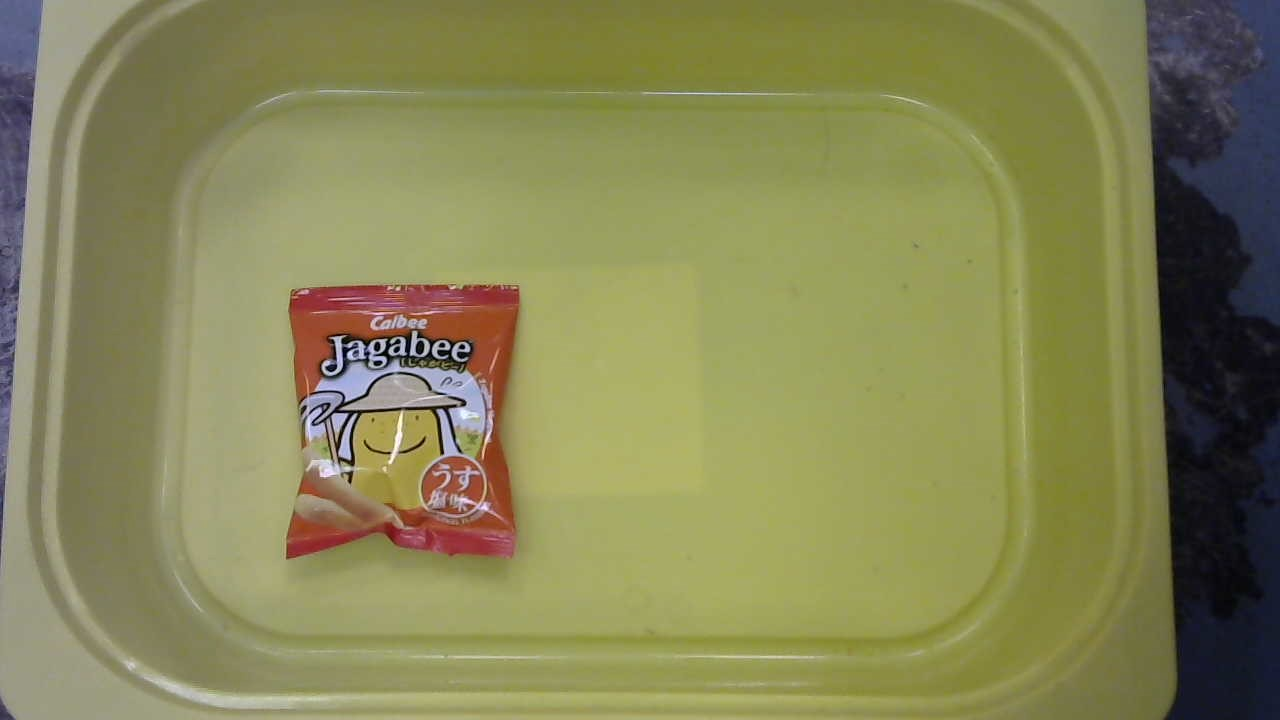JagabeeFarmer: (280, 278, 521, 568)
